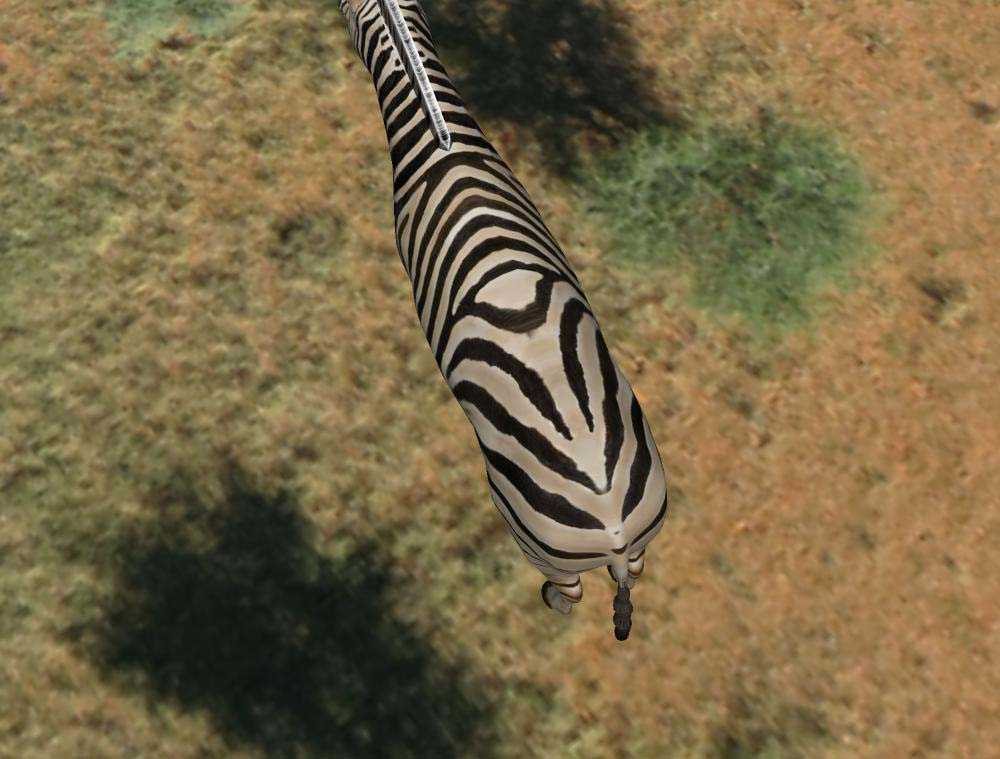zebra: (334, 1, 671, 651)
